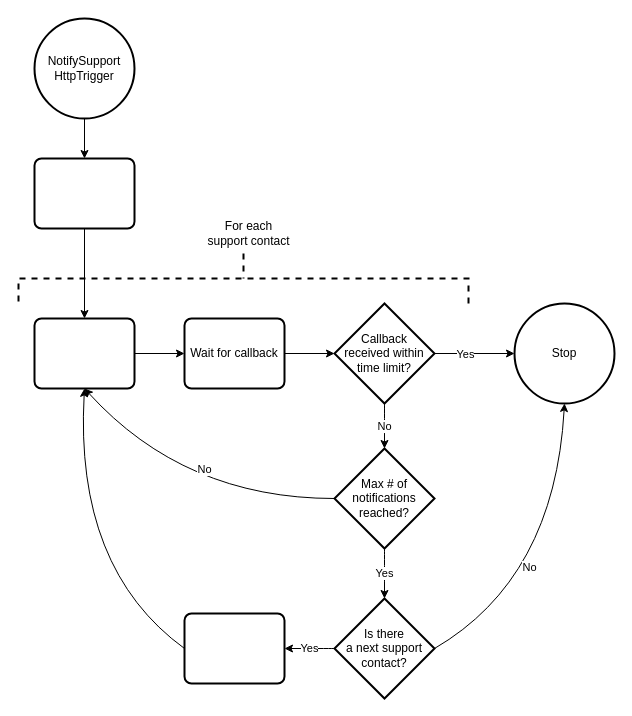
The diagram is 632 pixels wide and 716 high, and some of its shapes have lost their labels. The shapes that lost their labels are listed below. From the top down, each one's centre as x and y in pixels, then its label:
(84,193): Get support contacts
(84,353): Send notification
(234,648): Select next support contact
